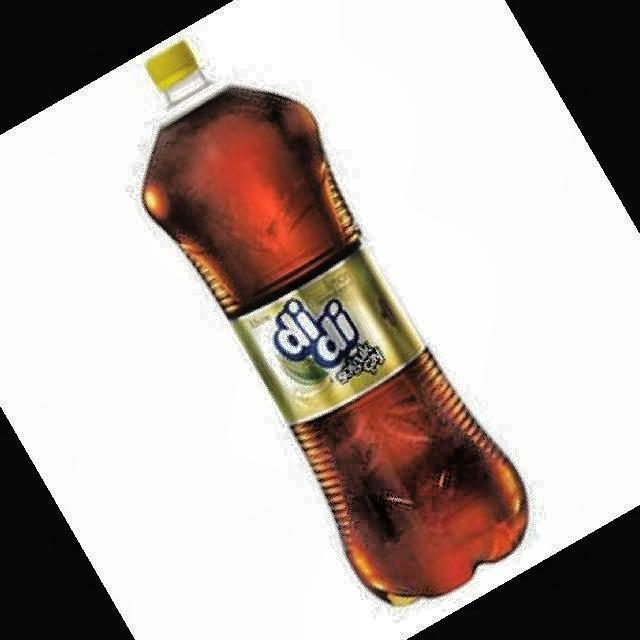plastic: (142, 42, 528, 603)
